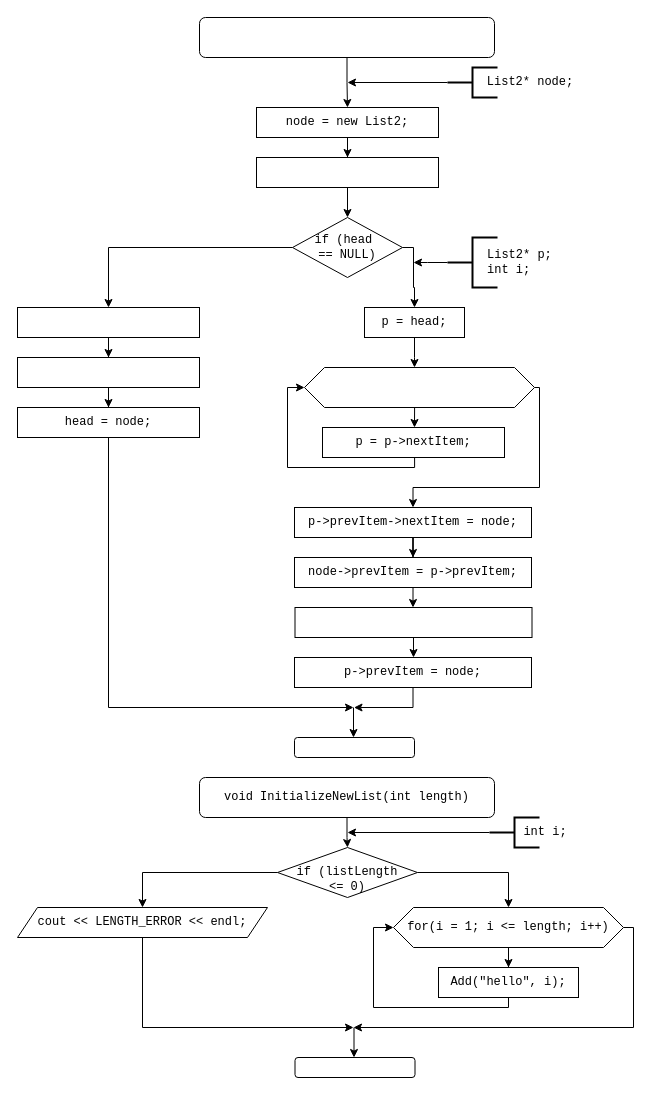
Some shapes in this 659 by 1095 pixel diagram are drawn without their labels. The box of each missing label's shape, as (x1, y1, x2, y2) in pixels:
for(i = position; i > 1; i--): (304, 366, 534, 408)
node->item = value;: (256, 156, 438, 188)
node->nextItem = node;: (16, 306, 200, 338)
node->nextItem = p;: (294, 606, 532, 638)
node->prevItem = node;: (16, 356, 200, 388)
void Add(char* value, int position): (198, 16, 494, 58)
